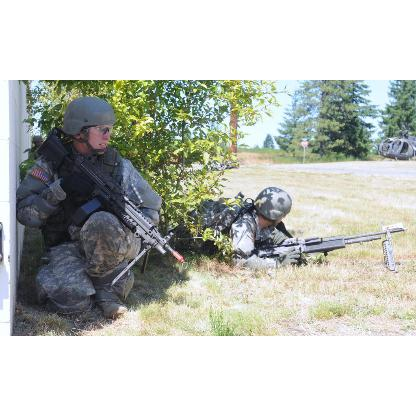gun: (34, 152, 186, 282), (250, 224, 410, 274)
